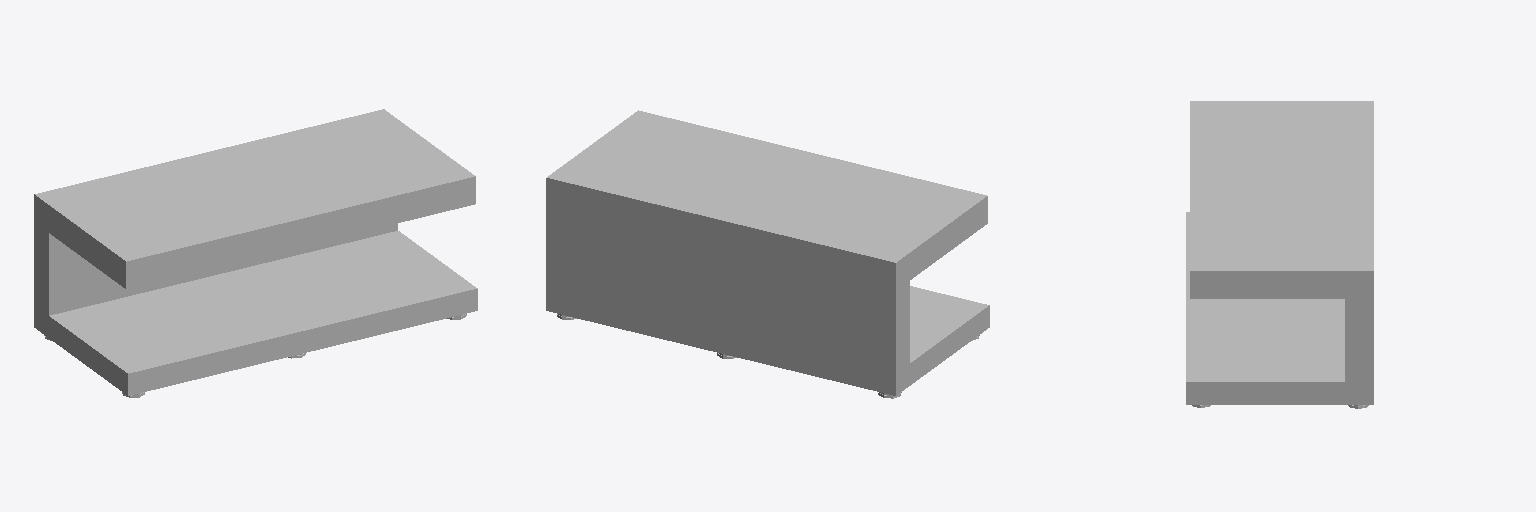
Rendered from tv_cabinet.obj.
3 views of the same model, side by side, from view 1: azimuth 30°, elevation 25°; view 2: azimuth 150°, elevation 25°; view 3: azimuth 270°, elevation 25° (orthographic).
Parts seen in each view (by area): view 1: tv_cabinet; view 2: tv_cabinet; view 3: tv_cabinet.
Boxes of the visible parts, box(x1,y1,x2,y2) form: tv_cabinet: box(34, 109, 477, 397); tv_cabinet: box(546, 110, 989, 398); tv_cabinet: box(1186, 101, 1373, 408).
Bounding box in the file's own units: 30.83 × 11.8 × 14.31.